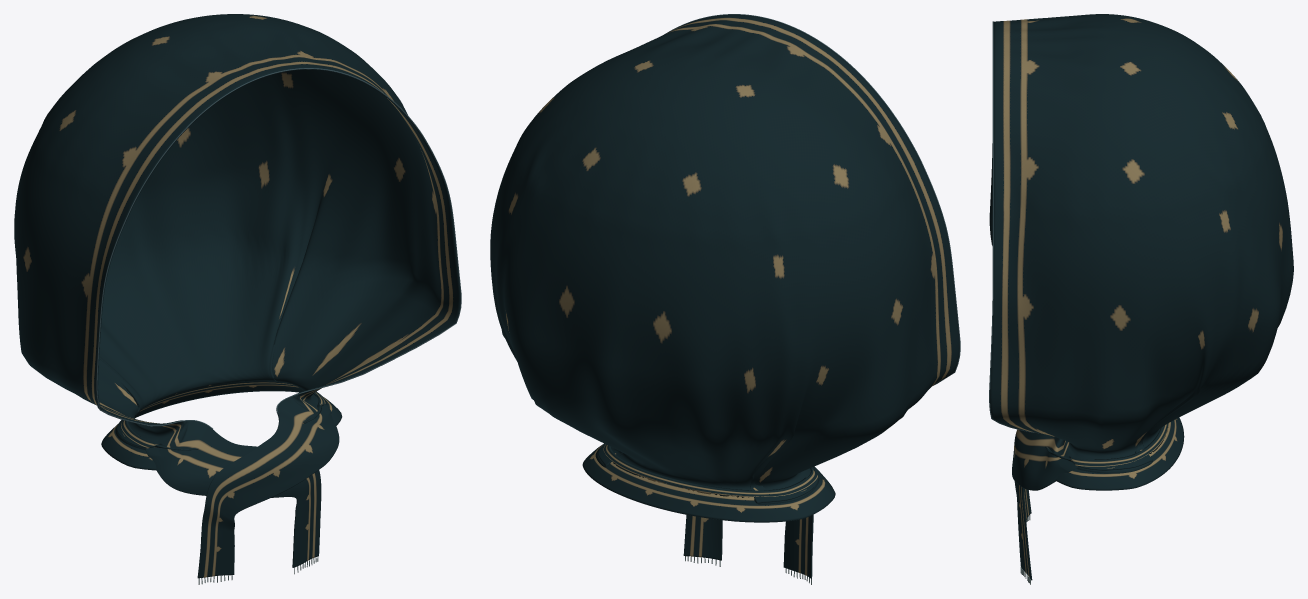
Rendered from Masculine-shirtless-pashmina239-headgear.glb.
3 views of the same model, side by side, from view 1: azimuth 30°, elevation 25°; view 2: azimuth 150°, elevation 25°; view 3: azimuth 270°, elevation 25° (orthographic). The views are drawn at different scales.
Visible parts, largest first — view 1: 226 headgear / Headwear / continuous woven pashmina239, 226 headgear / Headwear / face edge239; view 2: 226 headgear / Headwear / continuous woven pashmina239, 226 headgear / Headwear / face edge239; view 3: 226 headgear / Headwear / continuous woven pashmina239, 226 headgear / Headwear / face edge239.
Part boxes in pixels (x1,y1,x2,y2): 226 headgear / Headwear / continuous woven pashmina239: [14, 14, 460, 578]; 226 headgear / Headwear / face edge239: [96, 68, 461, 429]; 226 headgear / Headwear / continuous woven pashmina239: [490, 14, 959, 578]; 226 headgear / Headwear / face edge239: [664, 14, 960, 385]; 226 headgear / Headwear / continuous woven pashmina239: [989, 14, 1293, 580]; 226 headgear / Headwear / face edge239: [989, 21, 1038, 433].
Size of the model in its own units: 1.03 by 1.35 by 0.7127.
Materials: 3 (1 with a texture image).
